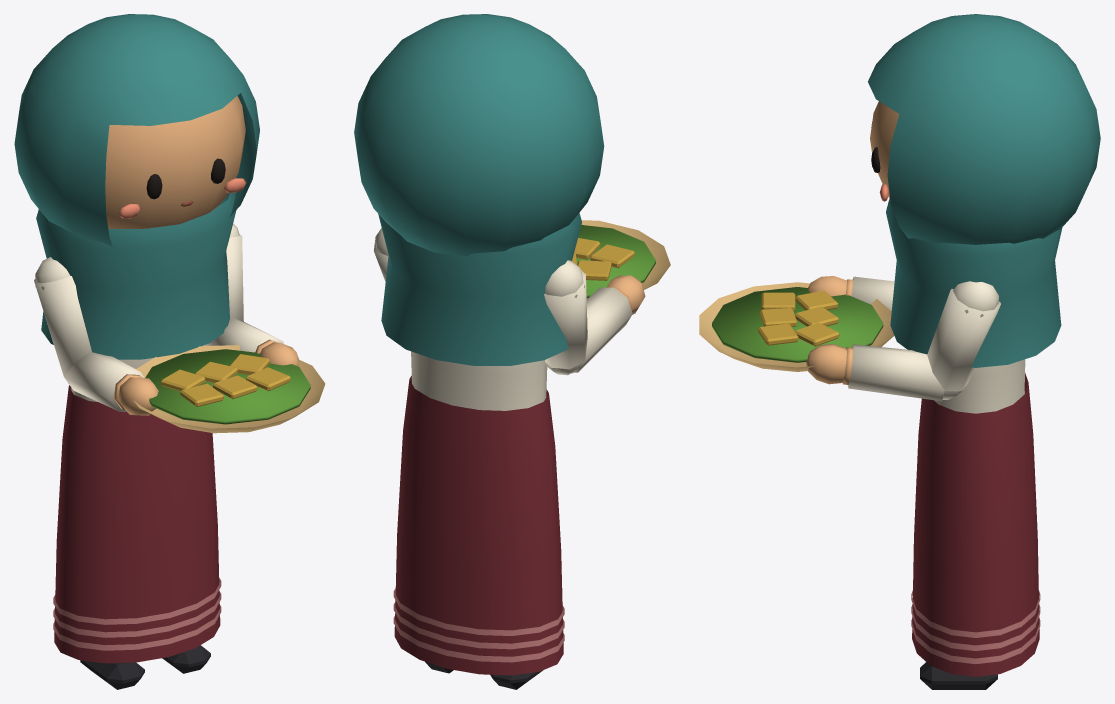
The model's file is south_roti_woman.glb.
3 renders of one model, left to right at view 1: azimuth 30°, elevation 25°; view 2: azimuth 150°, elevation 25°; view 3: azimuth 270°, elevation 25°, orthographic.
Parts seen in each view (by area): view 1: head, body, prop_roti_tray, arm_R, forearm_R, forearm_L, arm_L, shin_R, shin_L; view 2: head, body, prop_roti_tray, arm_R, forearm_R, shin_R; view 3: head, body, prop_roti_tray, forearm_L, arm_L, forearm_R, shin_L.
Part boxes in pixels (<box>): head: <box>14,14,259,359</box>; body: <box>53,346,221,663</box>; prop_roti_tray: <box>133,345,325,433</box>; arm_R: <box>34,257,91,383</box>; forearm_R: <box>64,352,158,415</box>; forearm_L: <box>202,317,298,366</box>; arm_L: <box>226,223,243,321</box>; shin_R: <box>80,660,144,689</box>; shin_L: <box>162,645,210,673</box>; head: <box>354,14,604,365</box>; body: <box>393,351,564,675</box>; prop_roti_tray: <box>572,220,670,298</box>; arm_R: <box>544,260,587,375</box>; forearm_R: <box>545,275,645,373</box>; shin_R: <box>490,670,542,689</box>; head: <box>868,14,1100,367</box>; body: <box>911,359,1040,676</box>; prop_roti_tray: <box>699,282,894,371</box>; forearm_L: <box>806,344,961,401</box>; arm_L: <box>927,281,1000,399</box>; forearm_R: <box>808,276,894,310</box>; shin_L: <box>920,662,997,689</box>.
Size of the model in its own units: 0.5197 by 1.48 by 0.8355.
